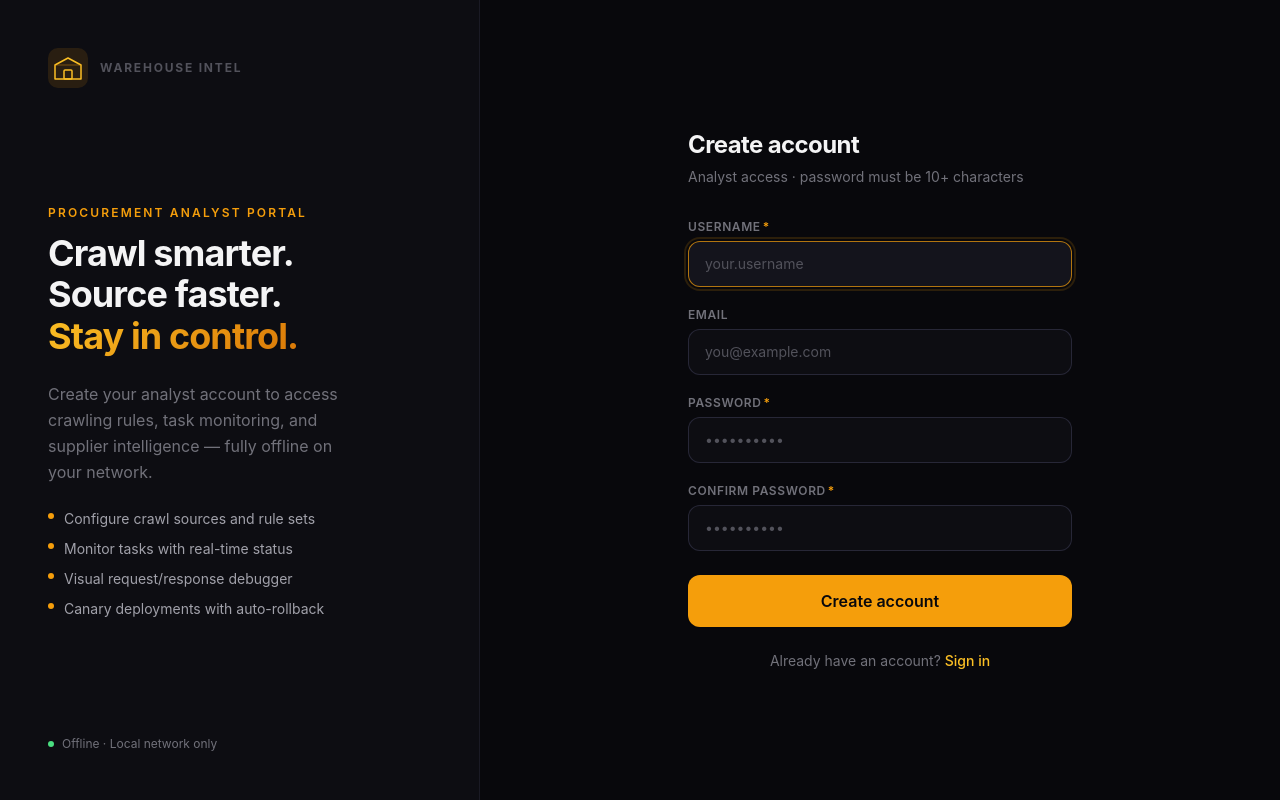
RegisterPage — client-side validation › shows error when password is empty
Type "someone" into the field labelled "Username*" at (880, 264), box x1=688 y1=241 x2=1072 y2=287
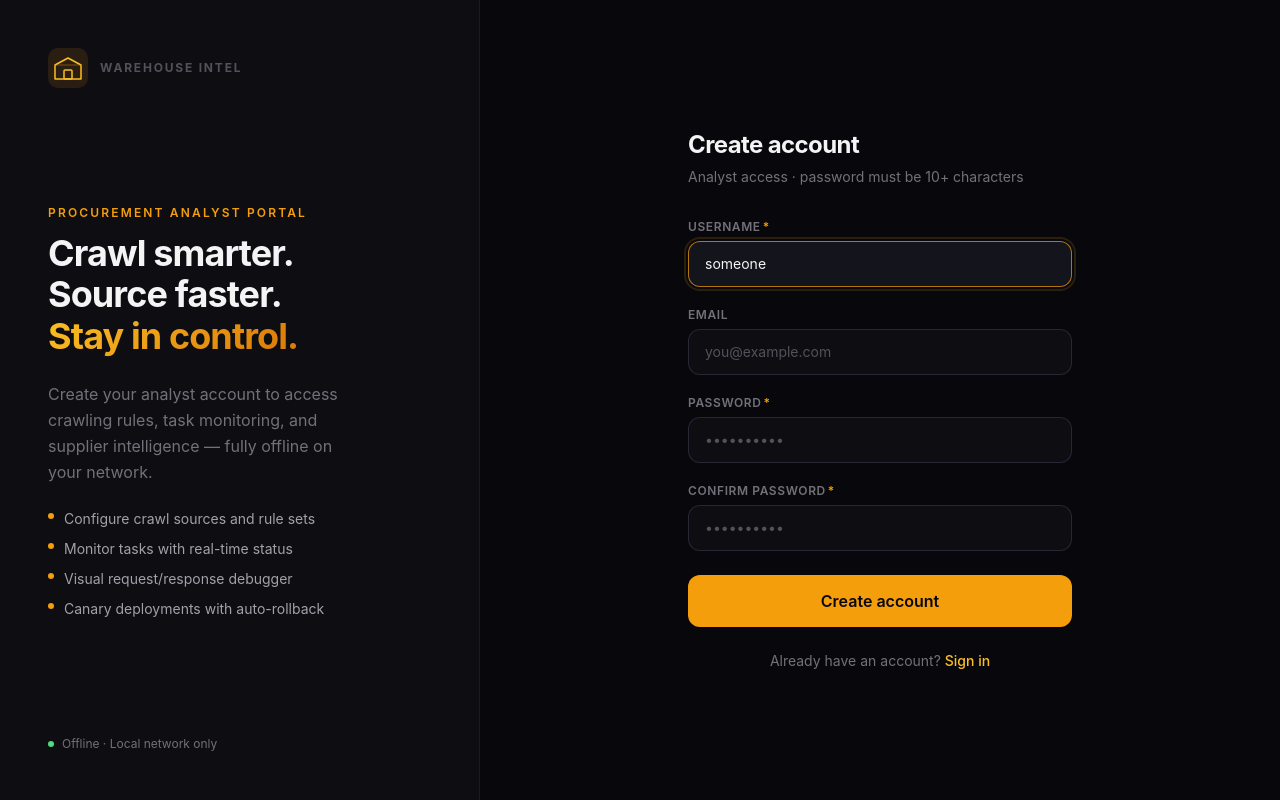
Submit the form "Username* Email Password* Confirm Password* Create account", box x1=688 y1=219 x2=1072 y2=627
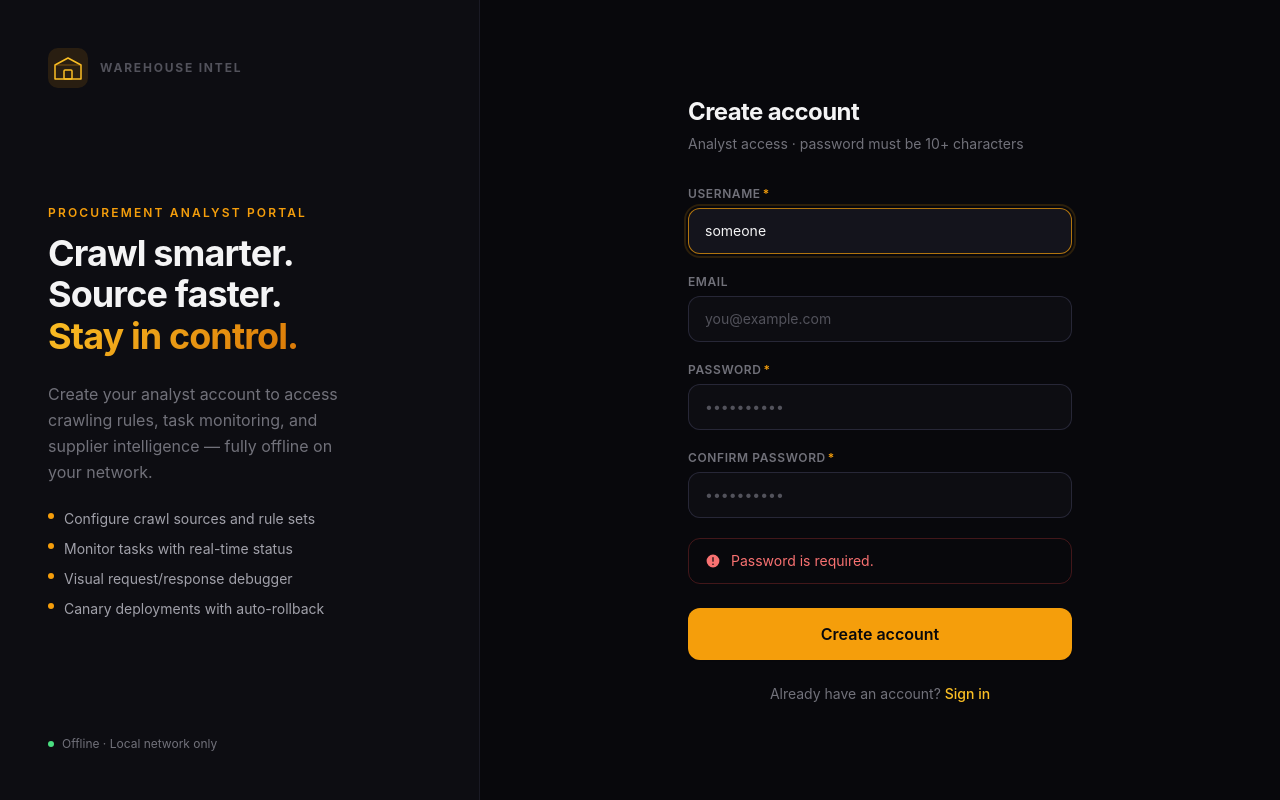
Result: the text "Password is required." is shown at x1=731 y1=551 x2=874 y2=571
